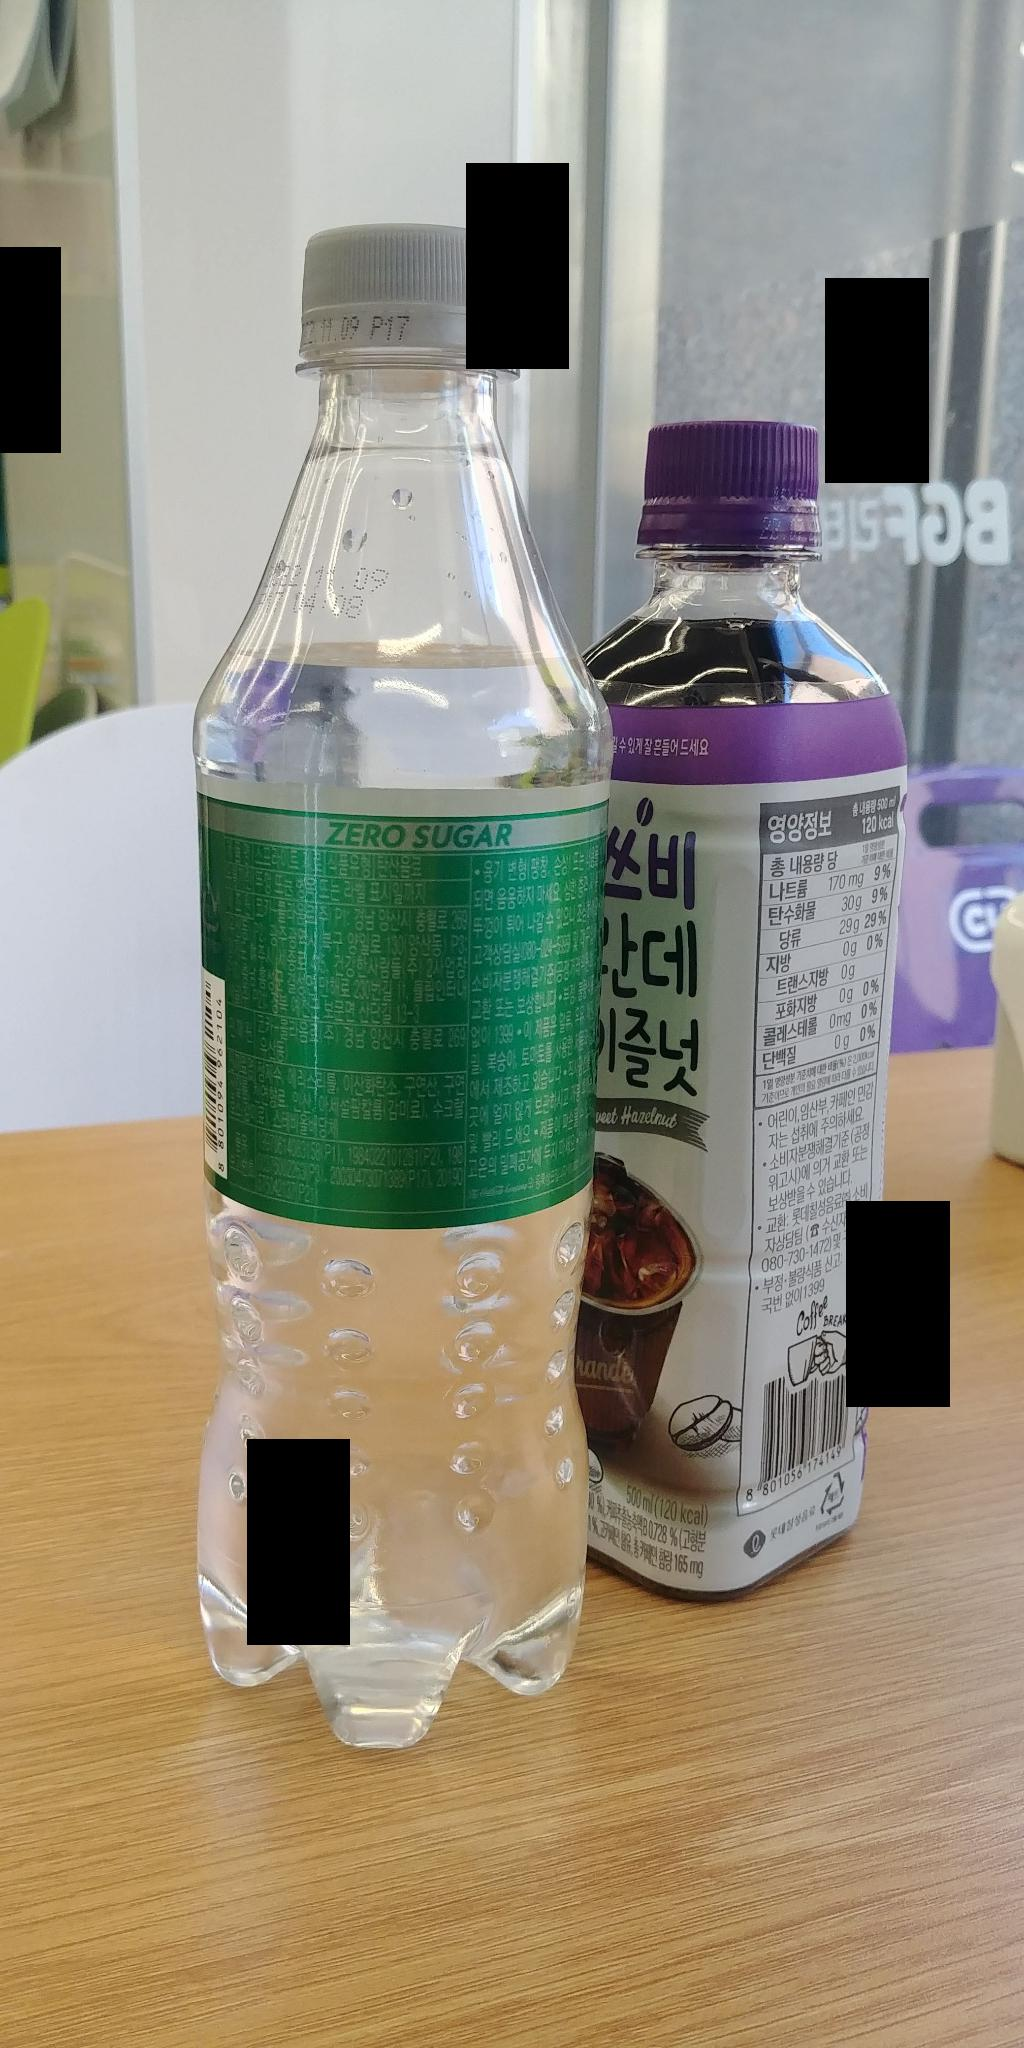letsbe_grande_hazelnut: (607, 384, 899, 1595)
sprite_zero: (124, 197, 614, 1779)
